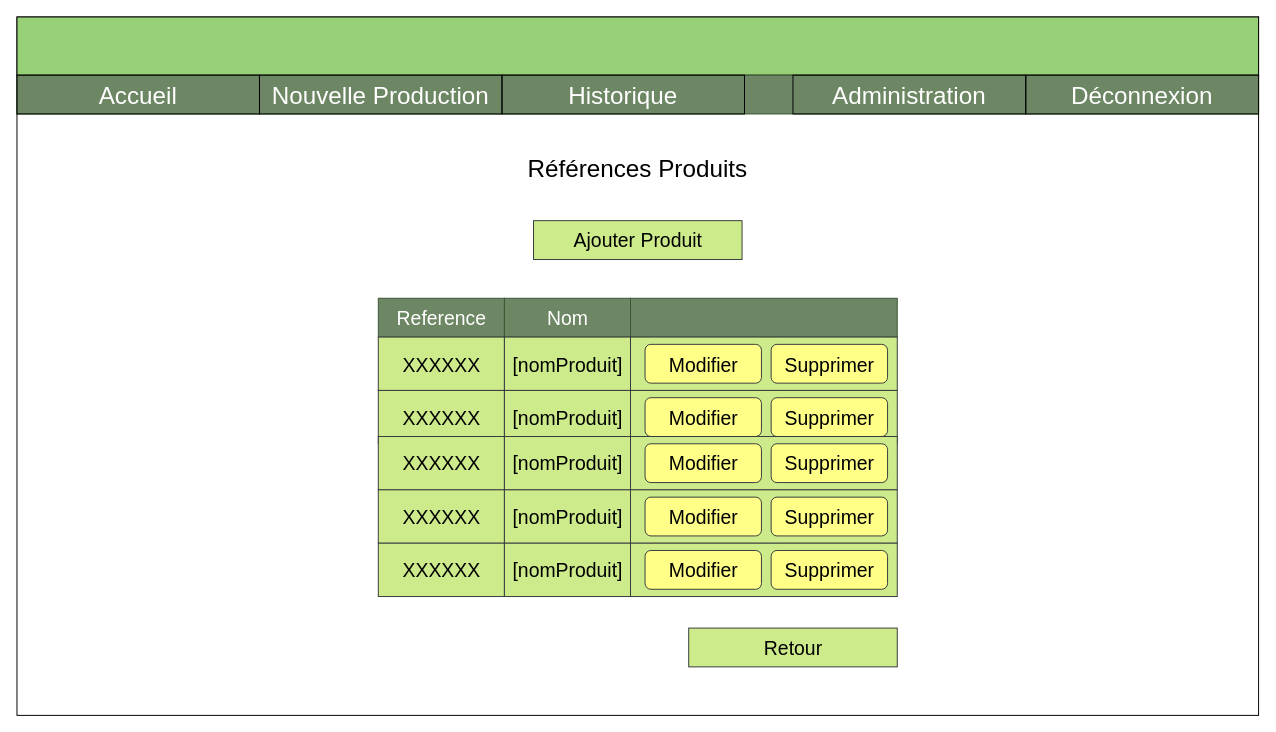
Some shapes in this 1276 by 732 pixel diagram are drawn without their labels. The shapes that lost their labels are listed below. From the top down, each one's centre as x and y in pixels, then its label:
(637,45): Gestion de production
(763,317): Actions
